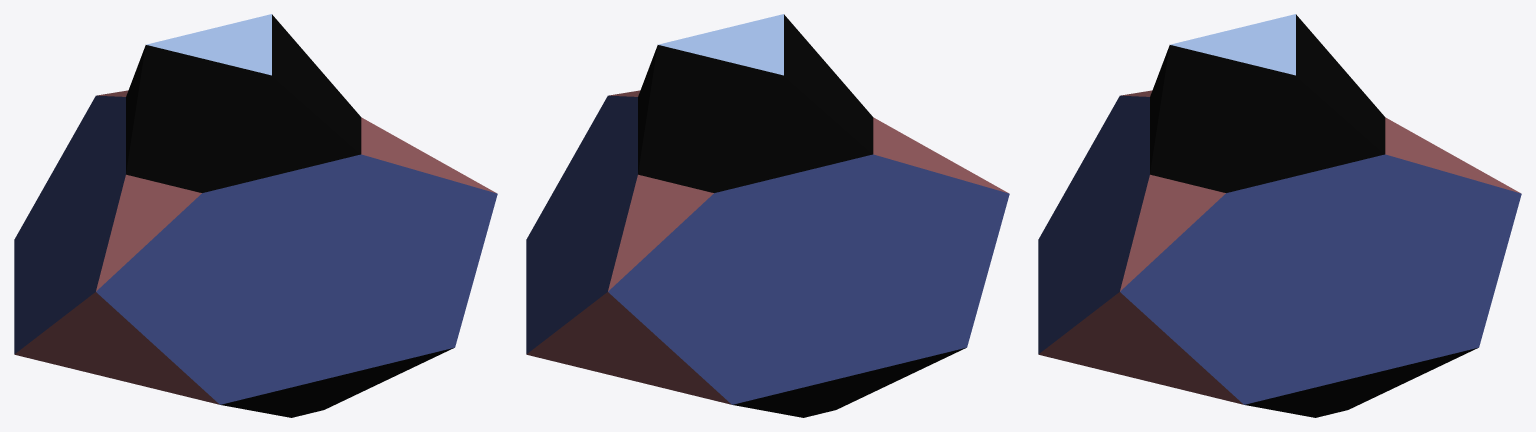
The model's file is metal slime core.fbx.
The picture shows the model from 3 angles, left to right: view 1: azimuth 30°, elevation 25°; view 2: azimuth 150°, elevation 25°; view 3: azimuth 270°, elevation 25°; orthographic projection.
Visible parts, largest first — view 1: Cone.002; view 2: Cone.002; view 3: Cone.002.
Part boxes in pixels (x1,y1,x2,y2): Cone.002: (14, 14, 497, 417); Cone.002: (526, 14, 1009, 417); Cone.002: (1038, 14, 1521, 417).
Size of the model in its own units: 96.95 by 65.57 by 92.09.
